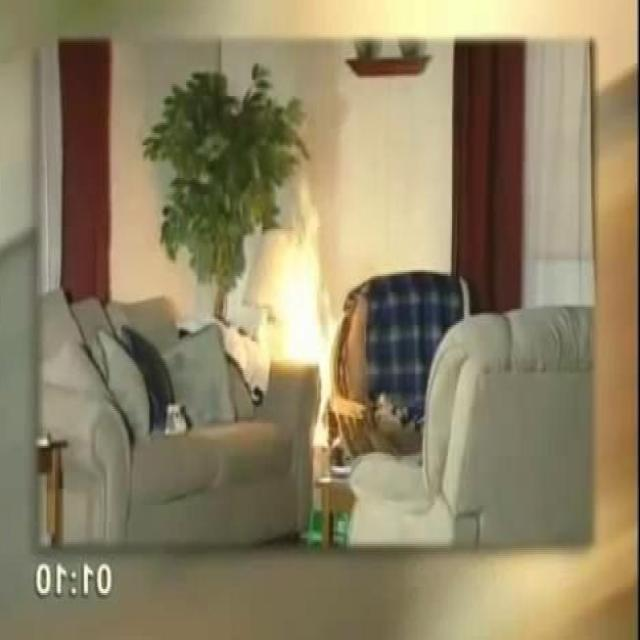smoke: (261, 172, 342, 390)
